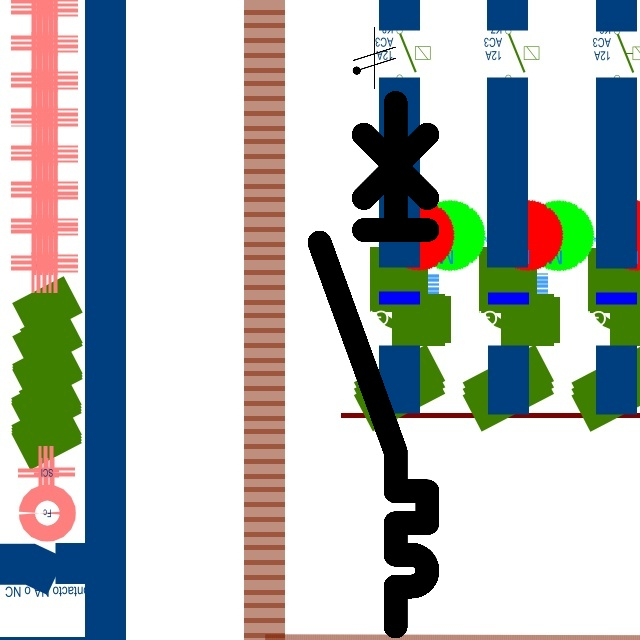interruptor_termomagnetico: (306, 89, 441, 640)
